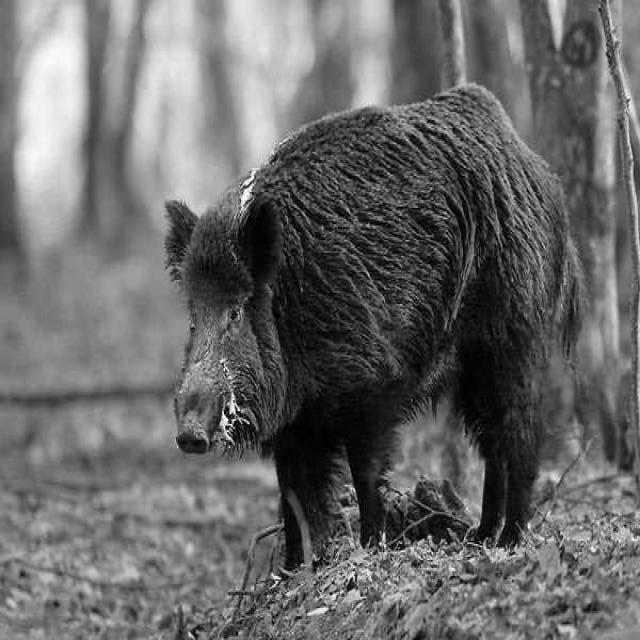boar: (166, 85, 581, 569)
